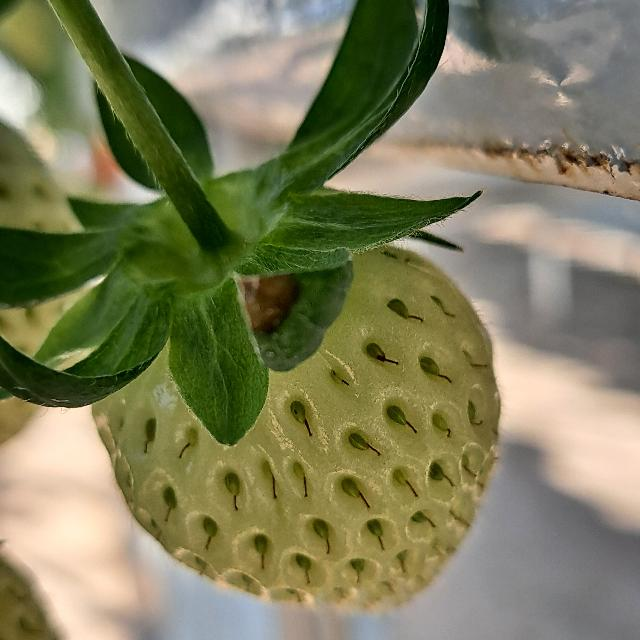Health_25: (92, 246, 500, 612)
